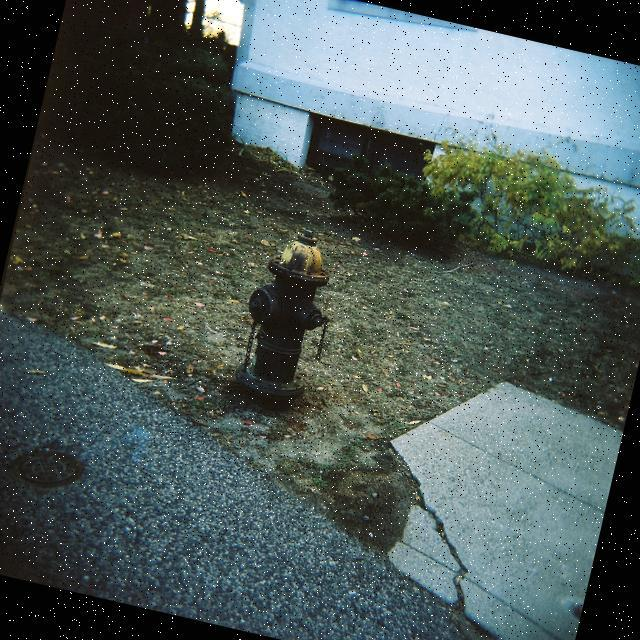fire_hydrant: (217, 210, 356, 418)
